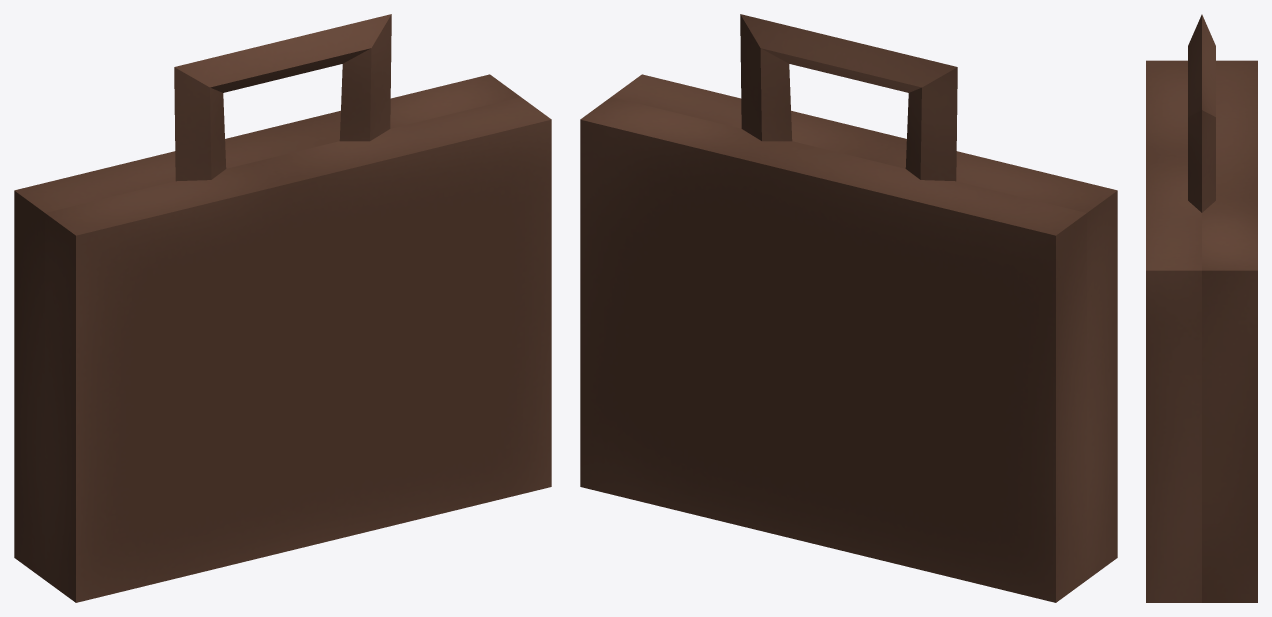
The model's file is Maletin.fbx.
The picture shows the model from 3 angles, left to right: view 1: azimuth 30°, elevation 25°; view 2: azimuth 150°, elevation 25°; view 3: azimuth 270°, elevation 25°; orthographic projection. The views are drawn at different scales.
Visible parts, largest first — view 1: Brief_GEO; view 2: Brief_GEO; view 3: Brief_GEO.
Boxes of the visible parts, left/top/right/bottom form: Brief_GEO: left=14, top=14, right=551, bottom=602; Brief_GEO: left=580, top=14, right=1117, bottom=602; Brief_GEO: left=1146, top=14, right=1257, bottom=602.
Bounding box in the file's own units: 57.71 × 55.84 × 12.99.
